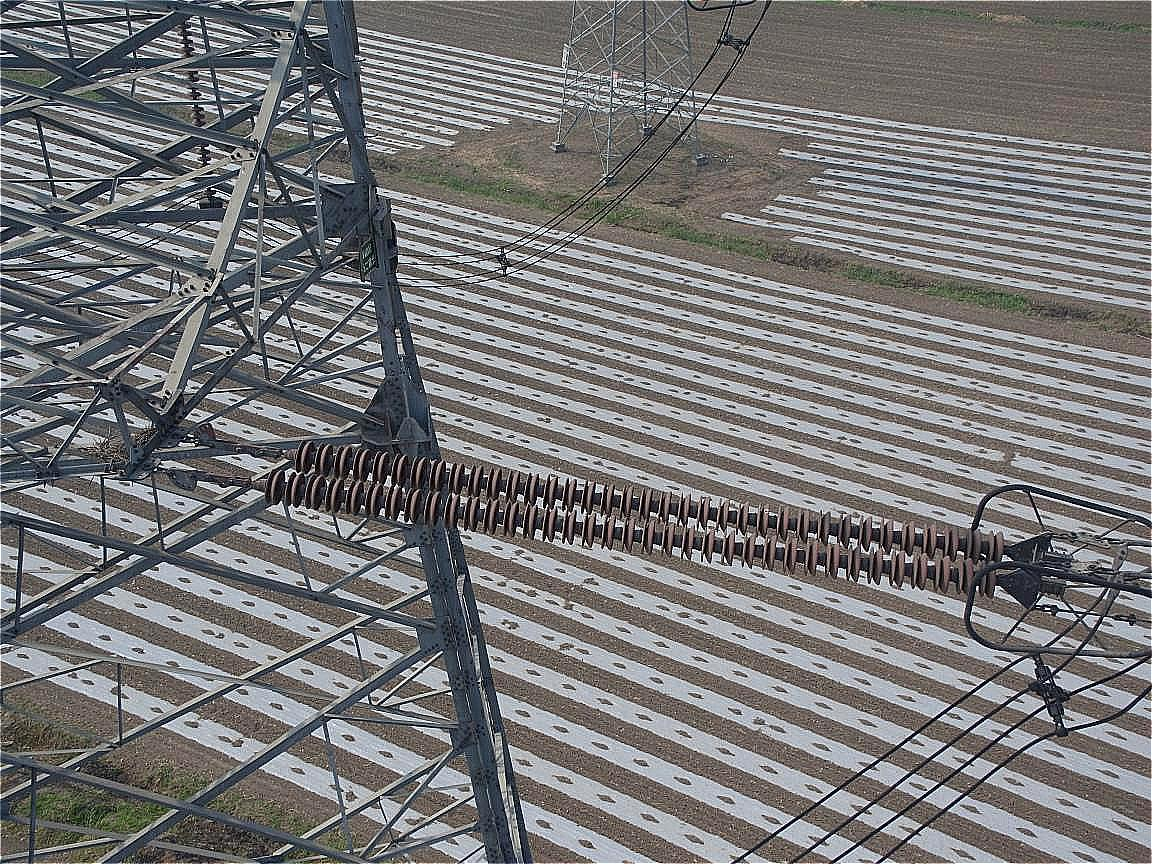insultor2: (222, 410, 1020, 618)
